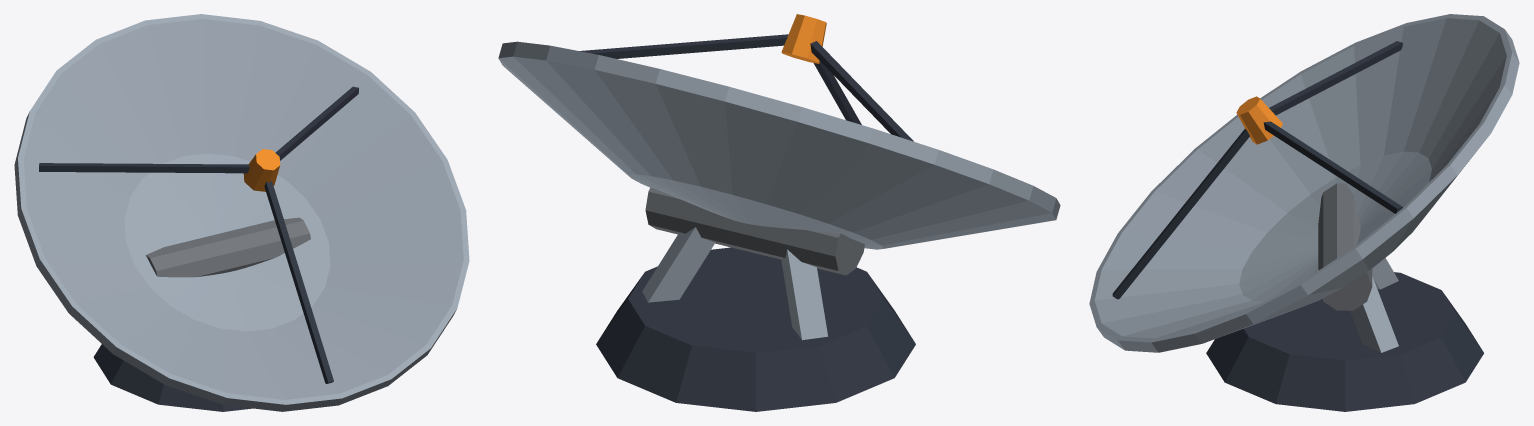
Rendered from installation-radar.glb.
3 views of the same model, side by side, from view 1: azimuth 30°, elevation 25°; view 2: azimuth 150°, elevation 25°; view 3: azimuth 270°, elevation 25° (orthographic). The views are drawn at different scales.
Parts seen in each view (by area): view 1: installation_radar; view 2: installation_radar; view 3: installation_radar.
Part boxes in pixels (<box>): installation_radar: <box>14,14,469,411</box>; installation_radar: <box>498,14,1060,411</box>; installation_radar: <box>1089,14,1519,411</box>.
Bounding box in the file's own units: 4.88 × 3.2 × 4.15.
